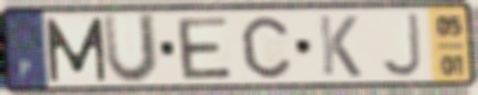C: (238, 14, 293, 81)
E: (174, 15, 235, 81)
J: (377, 11, 423, 80)
K: (316, 13, 364, 79)
M: (43, 15, 110, 84)
U: (99, 11, 160, 86)
